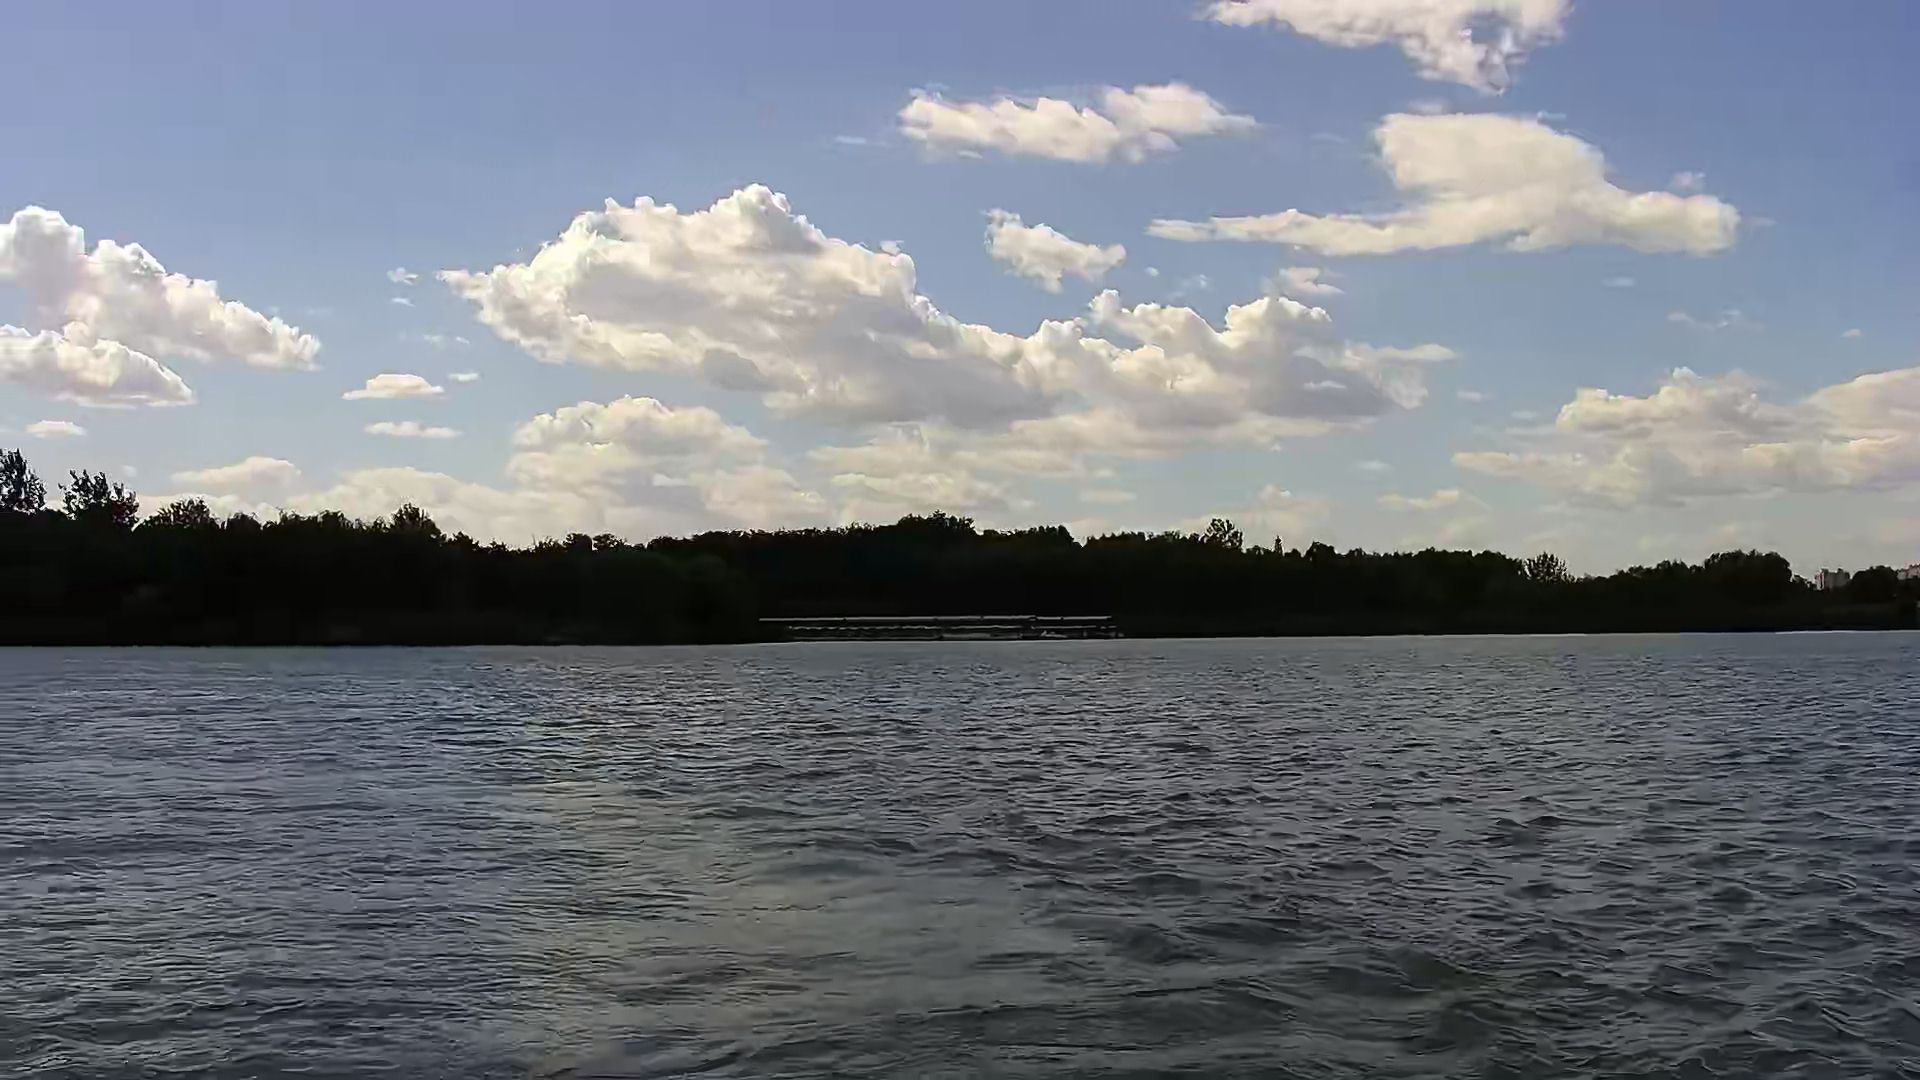harbor: (791, 613, 1120, 645)
